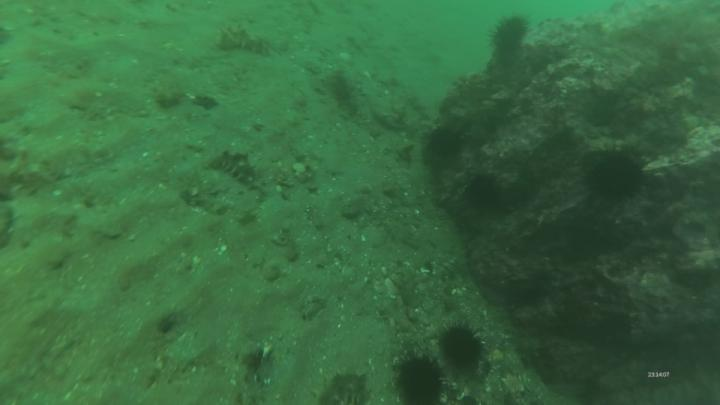echinus: (586, 143, 646, 205), (431, 321, 491, 373), (394, 350, 447, 405), (421, 118, 473, 163), (463, 171, 509, 214), (489, 12, 530, 53)
holothurian: (205, 151, 263, 190), (317, 369, 370, 405), (220, 24, 270, 58), (151, 72, 187, 113)
